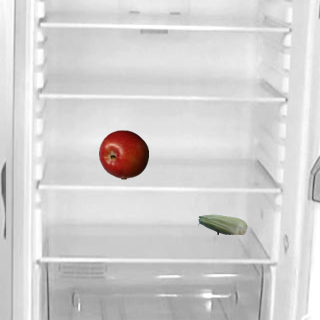Apple Braeburn: (98, 129, 148, 179)
Corn Husk: (197, 199, 247, 249)
